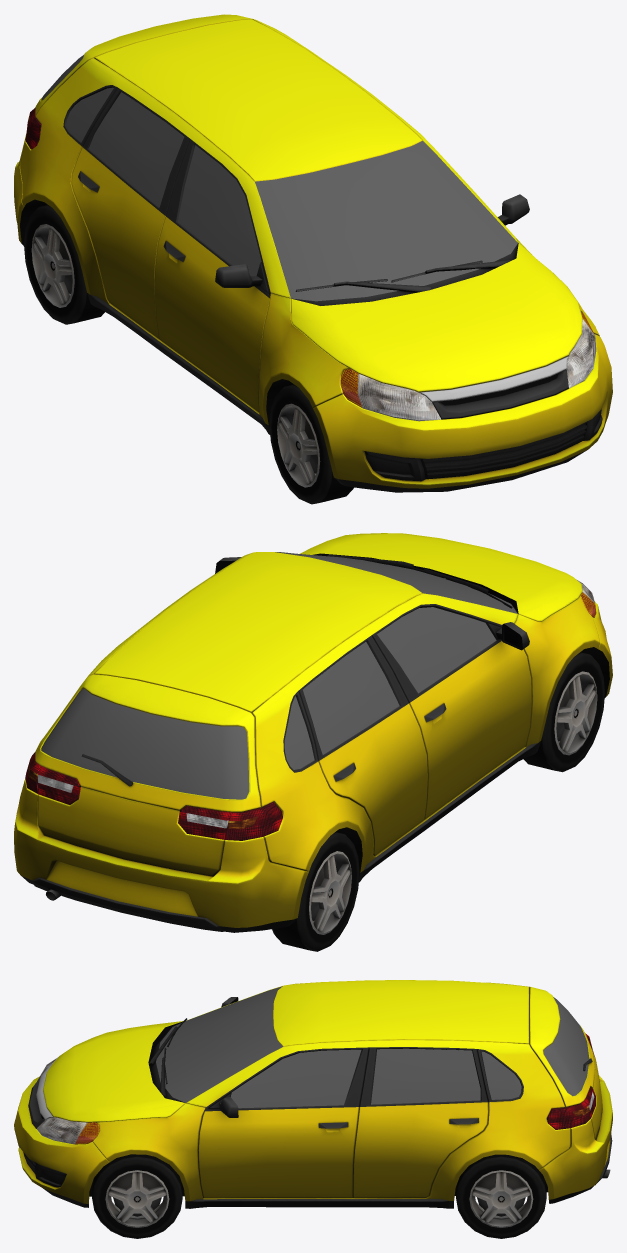
The model's file is Hatchback.glb.
3 views of the same model, one above another, from view 1: azimuth 30°, elevation 25°; view 2: azimuth 150°, elevation 25°; view 3: azimuth 270°, elevation 25° (orthographic). The views are drawn at different scales.
Visible parts, largest first — view 1: Hatchback Body, Wheel_B002, Wheel_B003; view 2: Hatchback Body, Wheel_B003, Wheel_B002; view 3: Hatchback Body, Wheel_B, Wheel_B001.
Part boxes in pixels (<box>): Hatchback Body: <box>14,14,612,492</box>; Wheel_B002: <box>269,384,354,504</box>; Wheel_B003: <box>24,205,104,324</box>; Hatchback Body: <box>14,533,612,932</box>; Wheel_B003: <box>272,832,359,951</box>; Wheel_B002: <box>523,652,604,772</box>; Hatchback Body: <box>14,980,612,1208</box>; Wheel_B: <box>92,1154,182,1238</box>; Wheel_B001: <box>456,1154,546,1238</box>.
Size of the model in its own units: 1.96 by 1.52 by 4.45.
4 materials, 3 textured.
